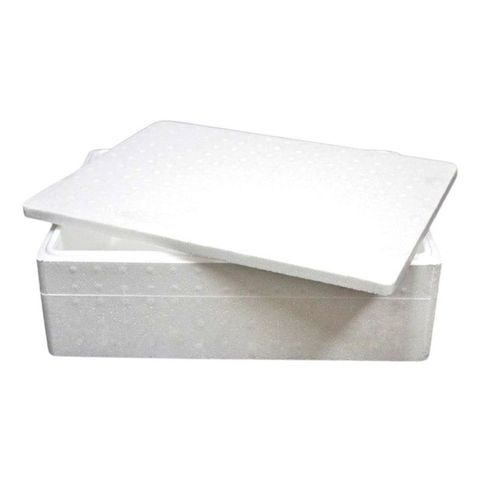Boxes: (23, 122, 456, 360)
